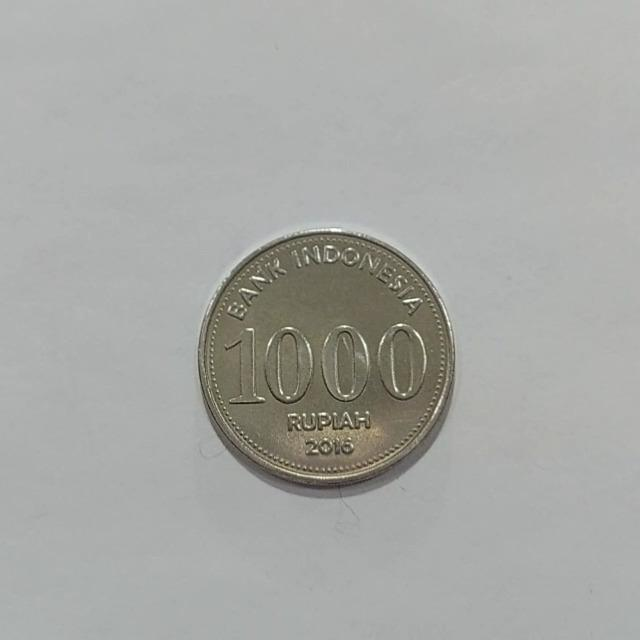Rp100: (195, 226, 456, 490)
